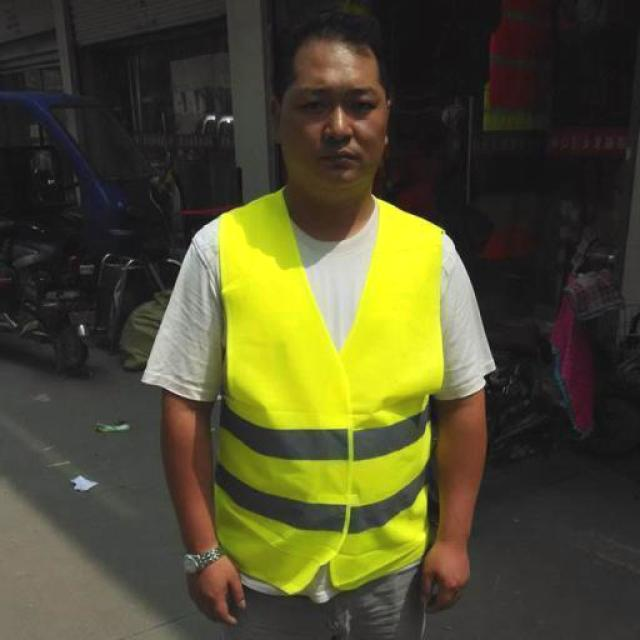face_nomask: (290, 84, 382, 175)
hand_noglove: (182, 545, 252, 629), (414, 534, 476, 614)
head_nohelmet: (272, 5, 399, 89)
person: (142, 6, 499, 640)
vest: (187, 182, 446, 589)
